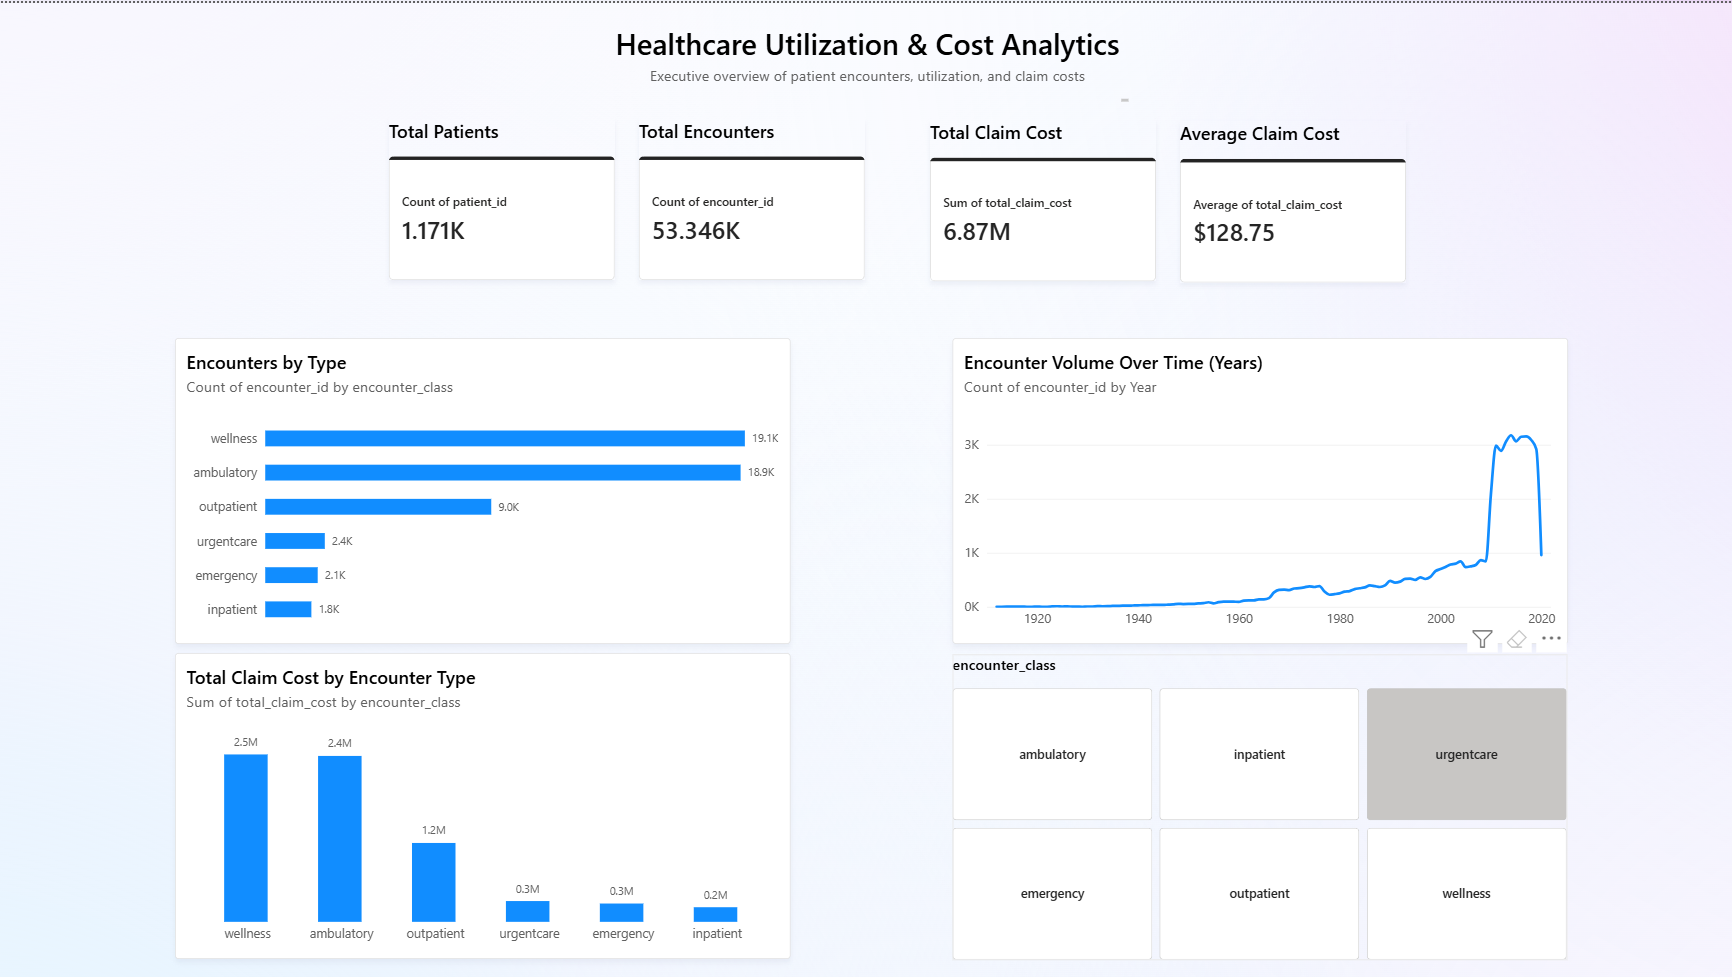

The dashboard page shown, as its layout file describes it:
{"tool":"powerbi","page":{"name":"Executive Overview","canvas":[1920,1080],"ordinal":0},"visuals":[{"type":"cardVisual","title":"Total Patients","fields":{"Data":["Count(public vw_patient_utilization.patient_id)"]},"box":[430.5,127.2,250.5,179.5],"z":0},{"type":"cardVisual","title":"Total Encounters","fields":{"Data":["CountNonNull(public vw_encounter_summary.encounter_id)"]},"box":[706.1,127.2,250.5,179.5],"z":1000},{"type":"cardVisual","title":"Total Claim Cost","fields":{"Data":["Sum(public vw_encounter_summary.total_claim_cost)"]},"box":[1028.9,128.6,250.5,179.5],"z":2000},{"type":"cardVisual","title":"Average Claim Cost","fields":{"Data":["Avg(public vw_encounter_summary.total_claim_cost)"]},"box":[1304.4,130,250.5,179.5],"z":3000},{"type":"clusteredBarChart","title":"Encounters by Type","fields":{"Category":["public vw_encounter_summary.encounter_class"],"Y":["CountNonNull(public vw_encounter_summary.encounter_id)"]},"box":[193.4,370.1,680.4,338.1],"z":4000},{"type":"lineChart","title":"Encounter Volume Over Time (Years)","fields":{"Category":["public vw_encounter_summary.start_time.Variation.Date Hierarchy.Year"],"Y":["CountNonNull(public vw_encounter_summary.encounter_id)"]},"box":[1053.4,370.1,680.4,338.1],"z":5000},{"type":"clusteredColumnChart","title":"Total Claim Cost by Encounter Type","fields":{"Category":["public vw_encounter_summary.encounter_class"],"Y":["Sum(public vw_encounter_summary.total_claim_cost)"]},"box":[193.4,719.4,680.4,338.1],"z":6000},{"type":"advancedSlicerVisual","fields":{"Values":["public vw_encounter_summary.encounter_class"]},"box":[1053.4,720.8,680.4,338.1],"z":7000},{"type":"textbox","title":"Healthcare Utilization & Cost Analytics","box":[670.5,23.5,577.9,85.7],"z":8000}]}

Visuals, with their boxes in screenshot pixels (x1, y1, x2, y2), scaled from the page's 1920x1080 canvas onto the 1732x977 screenshot:
"Total Patients" cardVisual: <bbox>388, 115, 614, 277</bbox>
"Total Encounters" cardVisual: <bbox>637, 115, 863, 277</bbox>
"Total Claim Cost" cardVisual: <bbox>928, 116, 1154, 279</bbox>
"Average Claim Cost" cardVisual: <bbox>1177, 118, 1403, 280</bbox>
"Encounters by Type" clusteredBarChart: <bbox>174, 335, 788, 641</bbox>
"Encounter Volume Over Time (Years)" lineChart: <bbox>950, 335, 1564, 641</bbox>
"Total Claim Cost by Encounter Type" clusteredColumnChart: <bbox>174, 651, 788, 957</bbox>
advancedSlicerVisual - public vw_encounter_summary.encounter_class: <bbox>950, 652, 1564, 958</bbox>
"Healthcare Utilization & Cost Analytics" textbox: <bbox>605, 21, 1126, 99</bbox>
